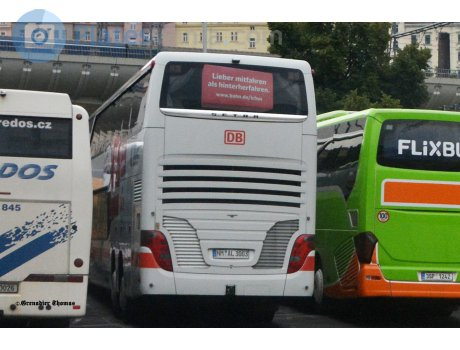License Plates: (214, 245, 257, 260), (425, 269, 454, 281), (0, 276, 17, 290)
